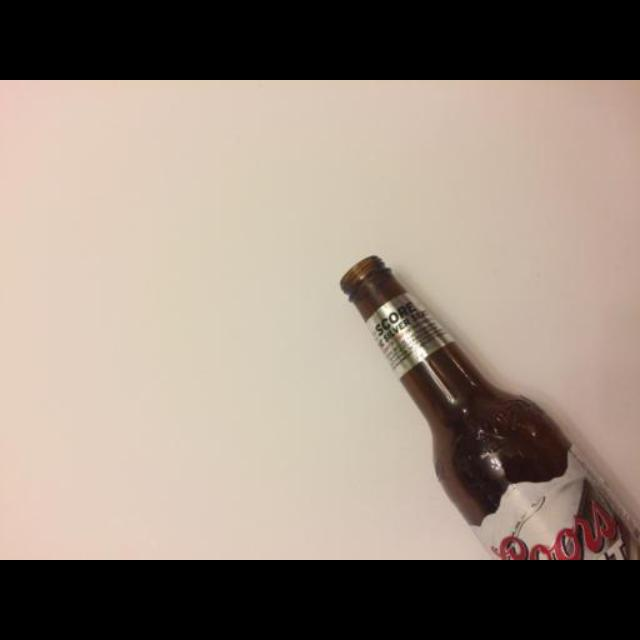garrafa de vidro: (338, 252, 640, 560)
